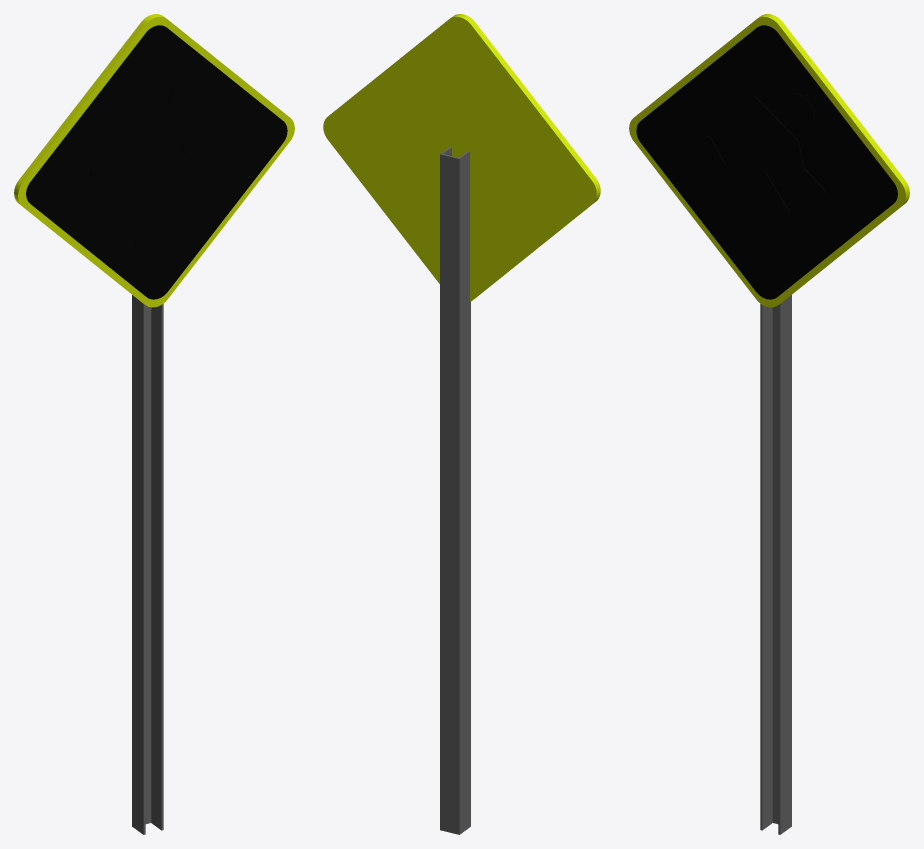
The model's file is walksign.fbx.
3 views of the same model, side by side, from view 1: azimuth 30°, elevation 25°; view 2: azimuth 150°, elevation 25°; view 3: azimuth 330°, elevation 25° (orthographic).
Parts seen in each view (by area): view 1: Cube.001, Cube.006; view 2: Cube.001; view 3: Cube.001, Cube.006.
Part boxes in pixels (left/top/right/bottom): Cube.001: left=14, top=14, right=294, bottom=834; Cube.006: left=90, top=78, right=217, bottom=251; Cube.001: left=323, top=14, right=600, bottom=834; Cube.001: left=629, top=14, right=909, bottom=834; Cube.006: left=699, top=92, right=825, bottom=243.
Bounding box in the file's own units: 428 × 1208 × 42.57.
